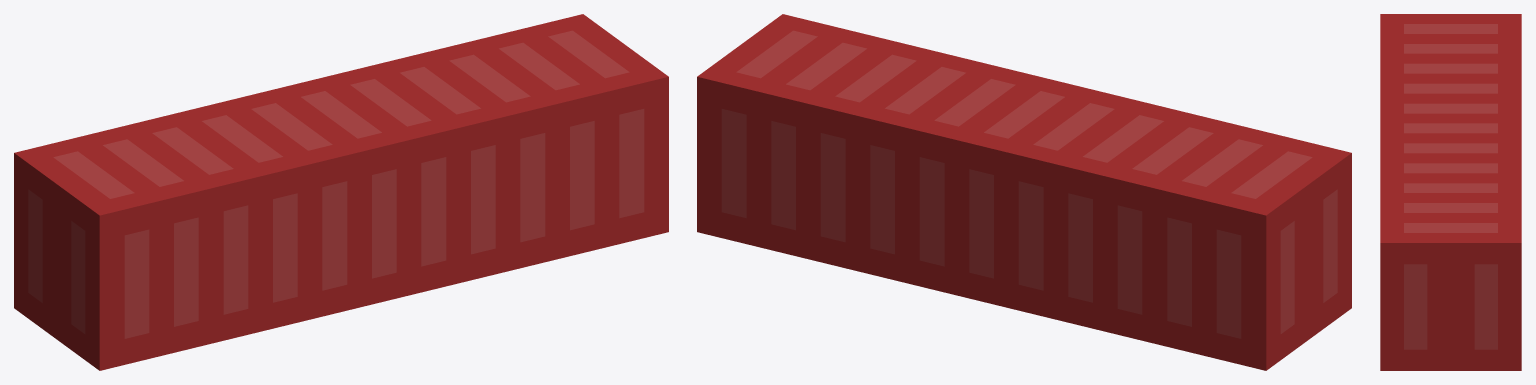
File: container-red.gltf
The picture shows the model from 3 angles, left to right: view 1: azimuth 30°, elevation 25°; view 2: azimuth 150°, elevation 25°; view 3: azimuth 270°, elevation 25°; orthographic projection. The views are drawn at different scales.
Parts seen in each view (by area): view 1: model; view 2: model; view 3: model.
Part boxes in pixels (x1,y1,x2,y2): model: [14, 14, 668, 370]; model: [697, 14, 1351, 370]; model: [1380, 14, 1521, 370].
Bounding box in the file's own units: 2.3 × 0.6 × 0.6.
1 material, 1 textured.
